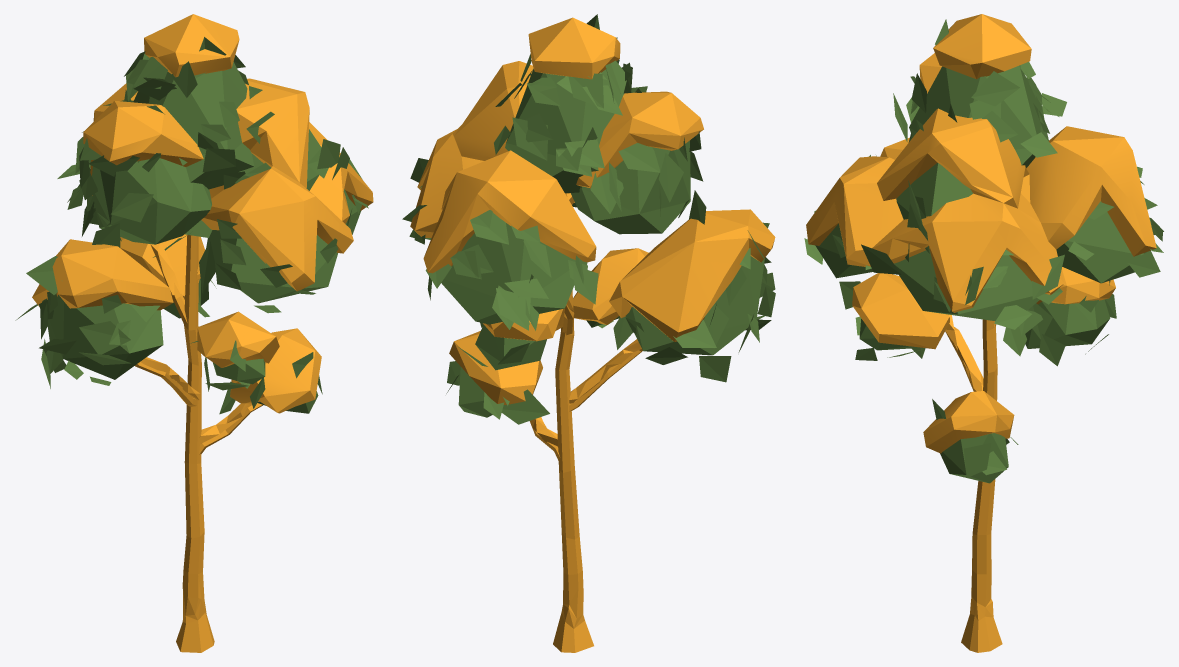
Rendered from SM_Tree_Beech_Young_A_Snow.fbx.
3 views of the same model, side by side, from view 1: azimuth 30°, elevation 25°; view 2: azimuth 150°, elevation 25°; view 3: azimuth 270°, elevation 25° (orthographic).
Parts seen in each view (by area): view 1: tree-beech-young-a-snow; view 2: tree-beech-young-a-snow; view 3: tree-beech-young-a-snow.
Part boxes in pixels (x1=…): tree-beech-young-a-snow: x1=15, y1=14, x2=373, y2=652; tree-beech-young-a-snow: x1=402, y1=14, x2=775, y2=652; tree-beech-young-a-snow: x1=804, y1=14, x2=1163, y2=652.
Bounding box in the file's own units: 3.44 × 5.99 × 3.1.
